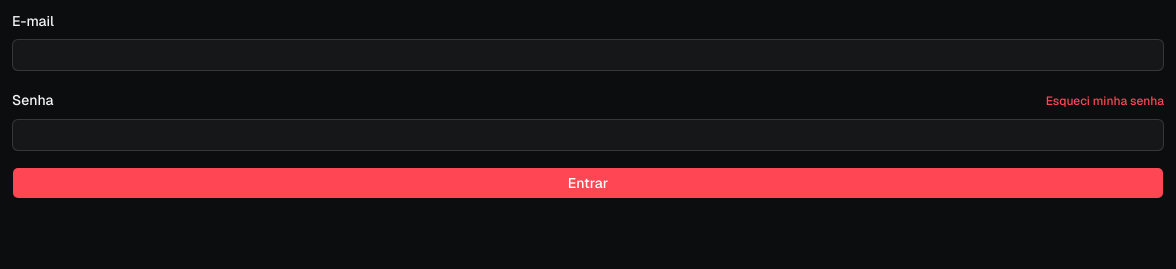
SignInForm › mostra 'E-mail ou senha incorretos.' quando as credenciais são inválidas
This screenshot has width=1176, height=269.
Type "joao@example.com" into the field labelled "E-mail".
click(588, 55); type("joao@example.com")  # box [12,39,1164,71]
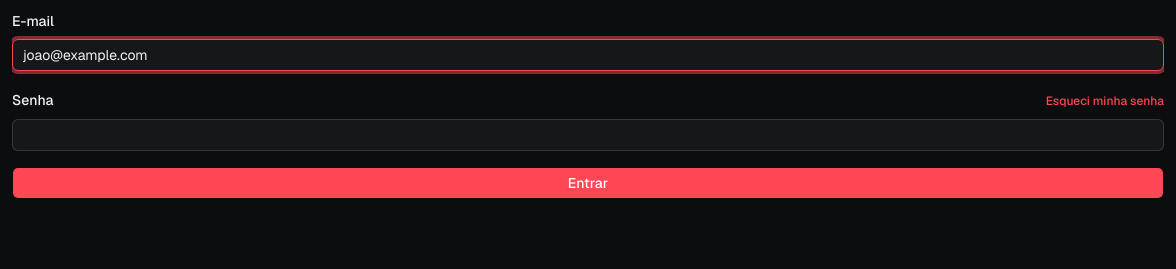
Type "senha-errada" into the password field labelled "Senha".
click(588, 134); type("senha-errada")  # box [12,118,1164,150]
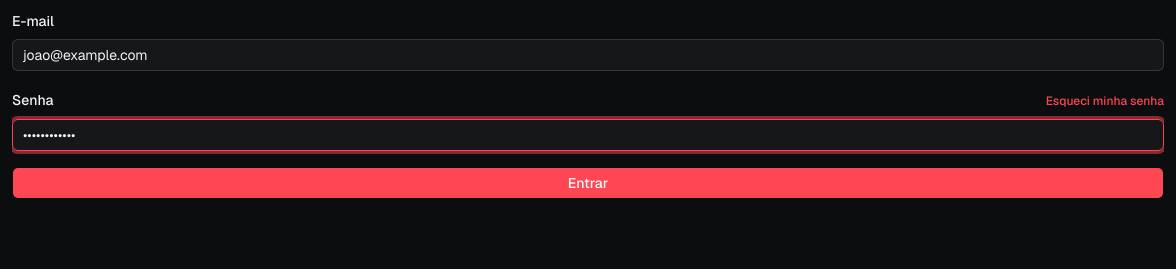
Click the button "Entrar".
click(588, 182)  # box [12,166,1164,198]
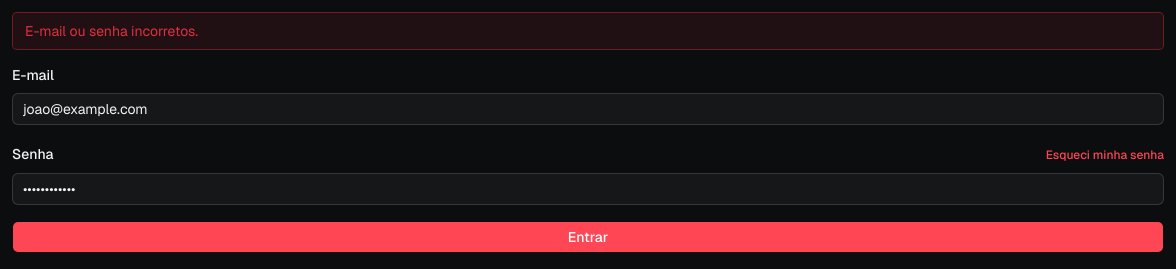
Expected: the message reads "E-mail ou senha incorretos.", [25,22,198,40]
